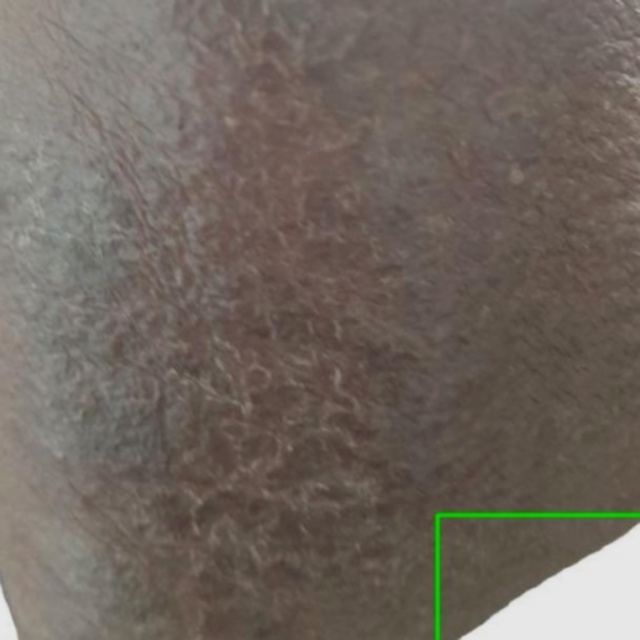Contact Dermatitis: (437, 514, 639, 639)
